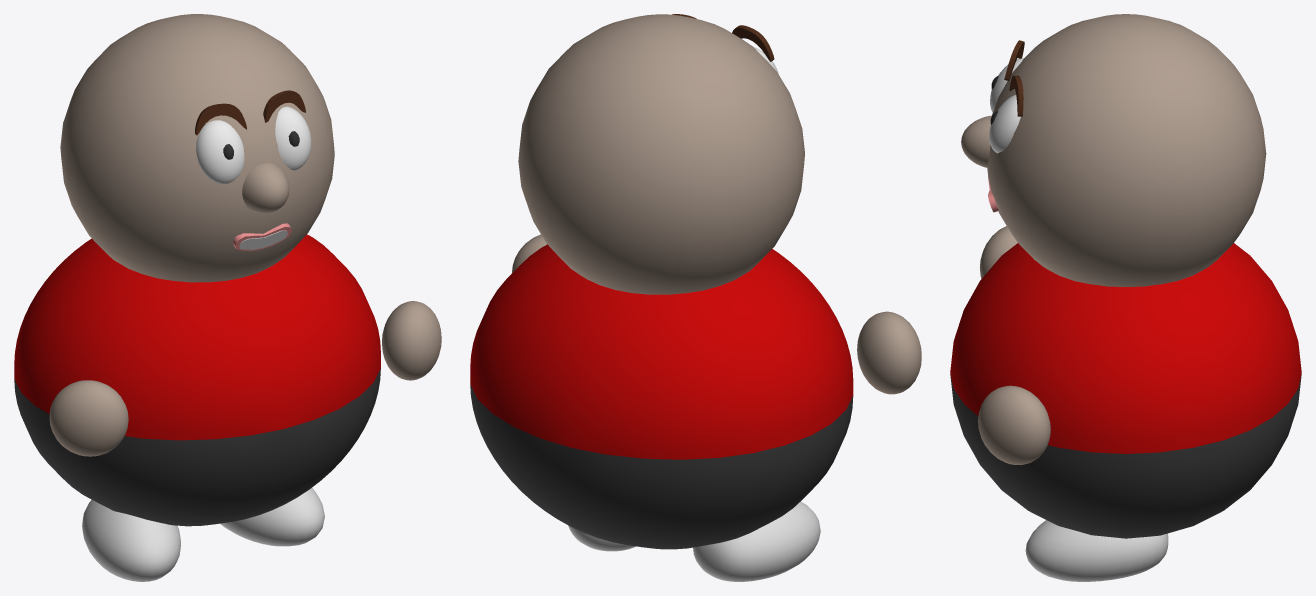
File: Customer.fbx
3 views of the same model, side by side, from view 1: azimuth 30°, elevation 25°; view 2: azimuth 150°, elevation 25°; view 3: azimuth 270°, elevation 25° (orthographic). The views are drawn at different scales.
Visible parts, largest first — view 1: Bottom, Head, Top, RightShoe, RightHand, LeftHand, LeftShoe, nurbsSphere5, Nose, nurbsSphere6, bevelPolygon1, bevelPolygon2; view 2: Head, Bottom, Top, RightShoe, RightHand, LeftShoe; view 3: Head, Bottom, Top, LeftShoe, LeftHand, Nose, nurbsSphere6, RightHand.
Part boxes in pixels (bbox=[...]): Bottom: bbox=[14, 234, 380, 440]; Head: bbox=[60, 14, 334, 282]; Top: bbox=[14, 368, 380, 526]; RightShoe: bbox=[82, 500, 180, 581]; RightHand: bbox=[49, 380, 128, 456]; LeftHand: bbox=[382, 301, 441, 380]; LeftShoe: bbox=[220, 488, 324, 546]; nurbsSphere5: bbox=[196, 120, 244, 183]; Nose: bbox=[242, 163, 289, 213]; nurbsSphere6: bbox=[275, 106, 311, 170]; bevelPolygon1: bbox=[195, 103, 246, 135]; bevelPolygon2: bbox=[263, 90, 305, 122]; Head: bbox=[518, 14, 804, 294]; Bottom: bbox=[470, 244, 853, 459]; Top: bbox=[470, 385, 853, 549]; RightShoe: bbox=[693, 501, 820, 581]; RightHand: bbox=[857, 311, 921, 394]; LeftShoe: bbox=[568, 525, 635, 551]; Head: bbox=[987, 14, 1266, 286]; Bottom: bbox=[950, 243, 1301, 453]; Top: bbox=[950, 374, 1301, 538]; LeftShoe: bbox=[1025, 520, 1168, 581]; LeftHand: bbox=[978, 385, 1050, 464]; Nose: bbox=[961, 115, 991, 167]; nurbsSphere6: bbox=[989, 95, 1020, 153]; RightHand: bbox=[980, 226, 1017, 278].
Bounding box in the file's own units: 2.83 × 3.59 × 2.2.
